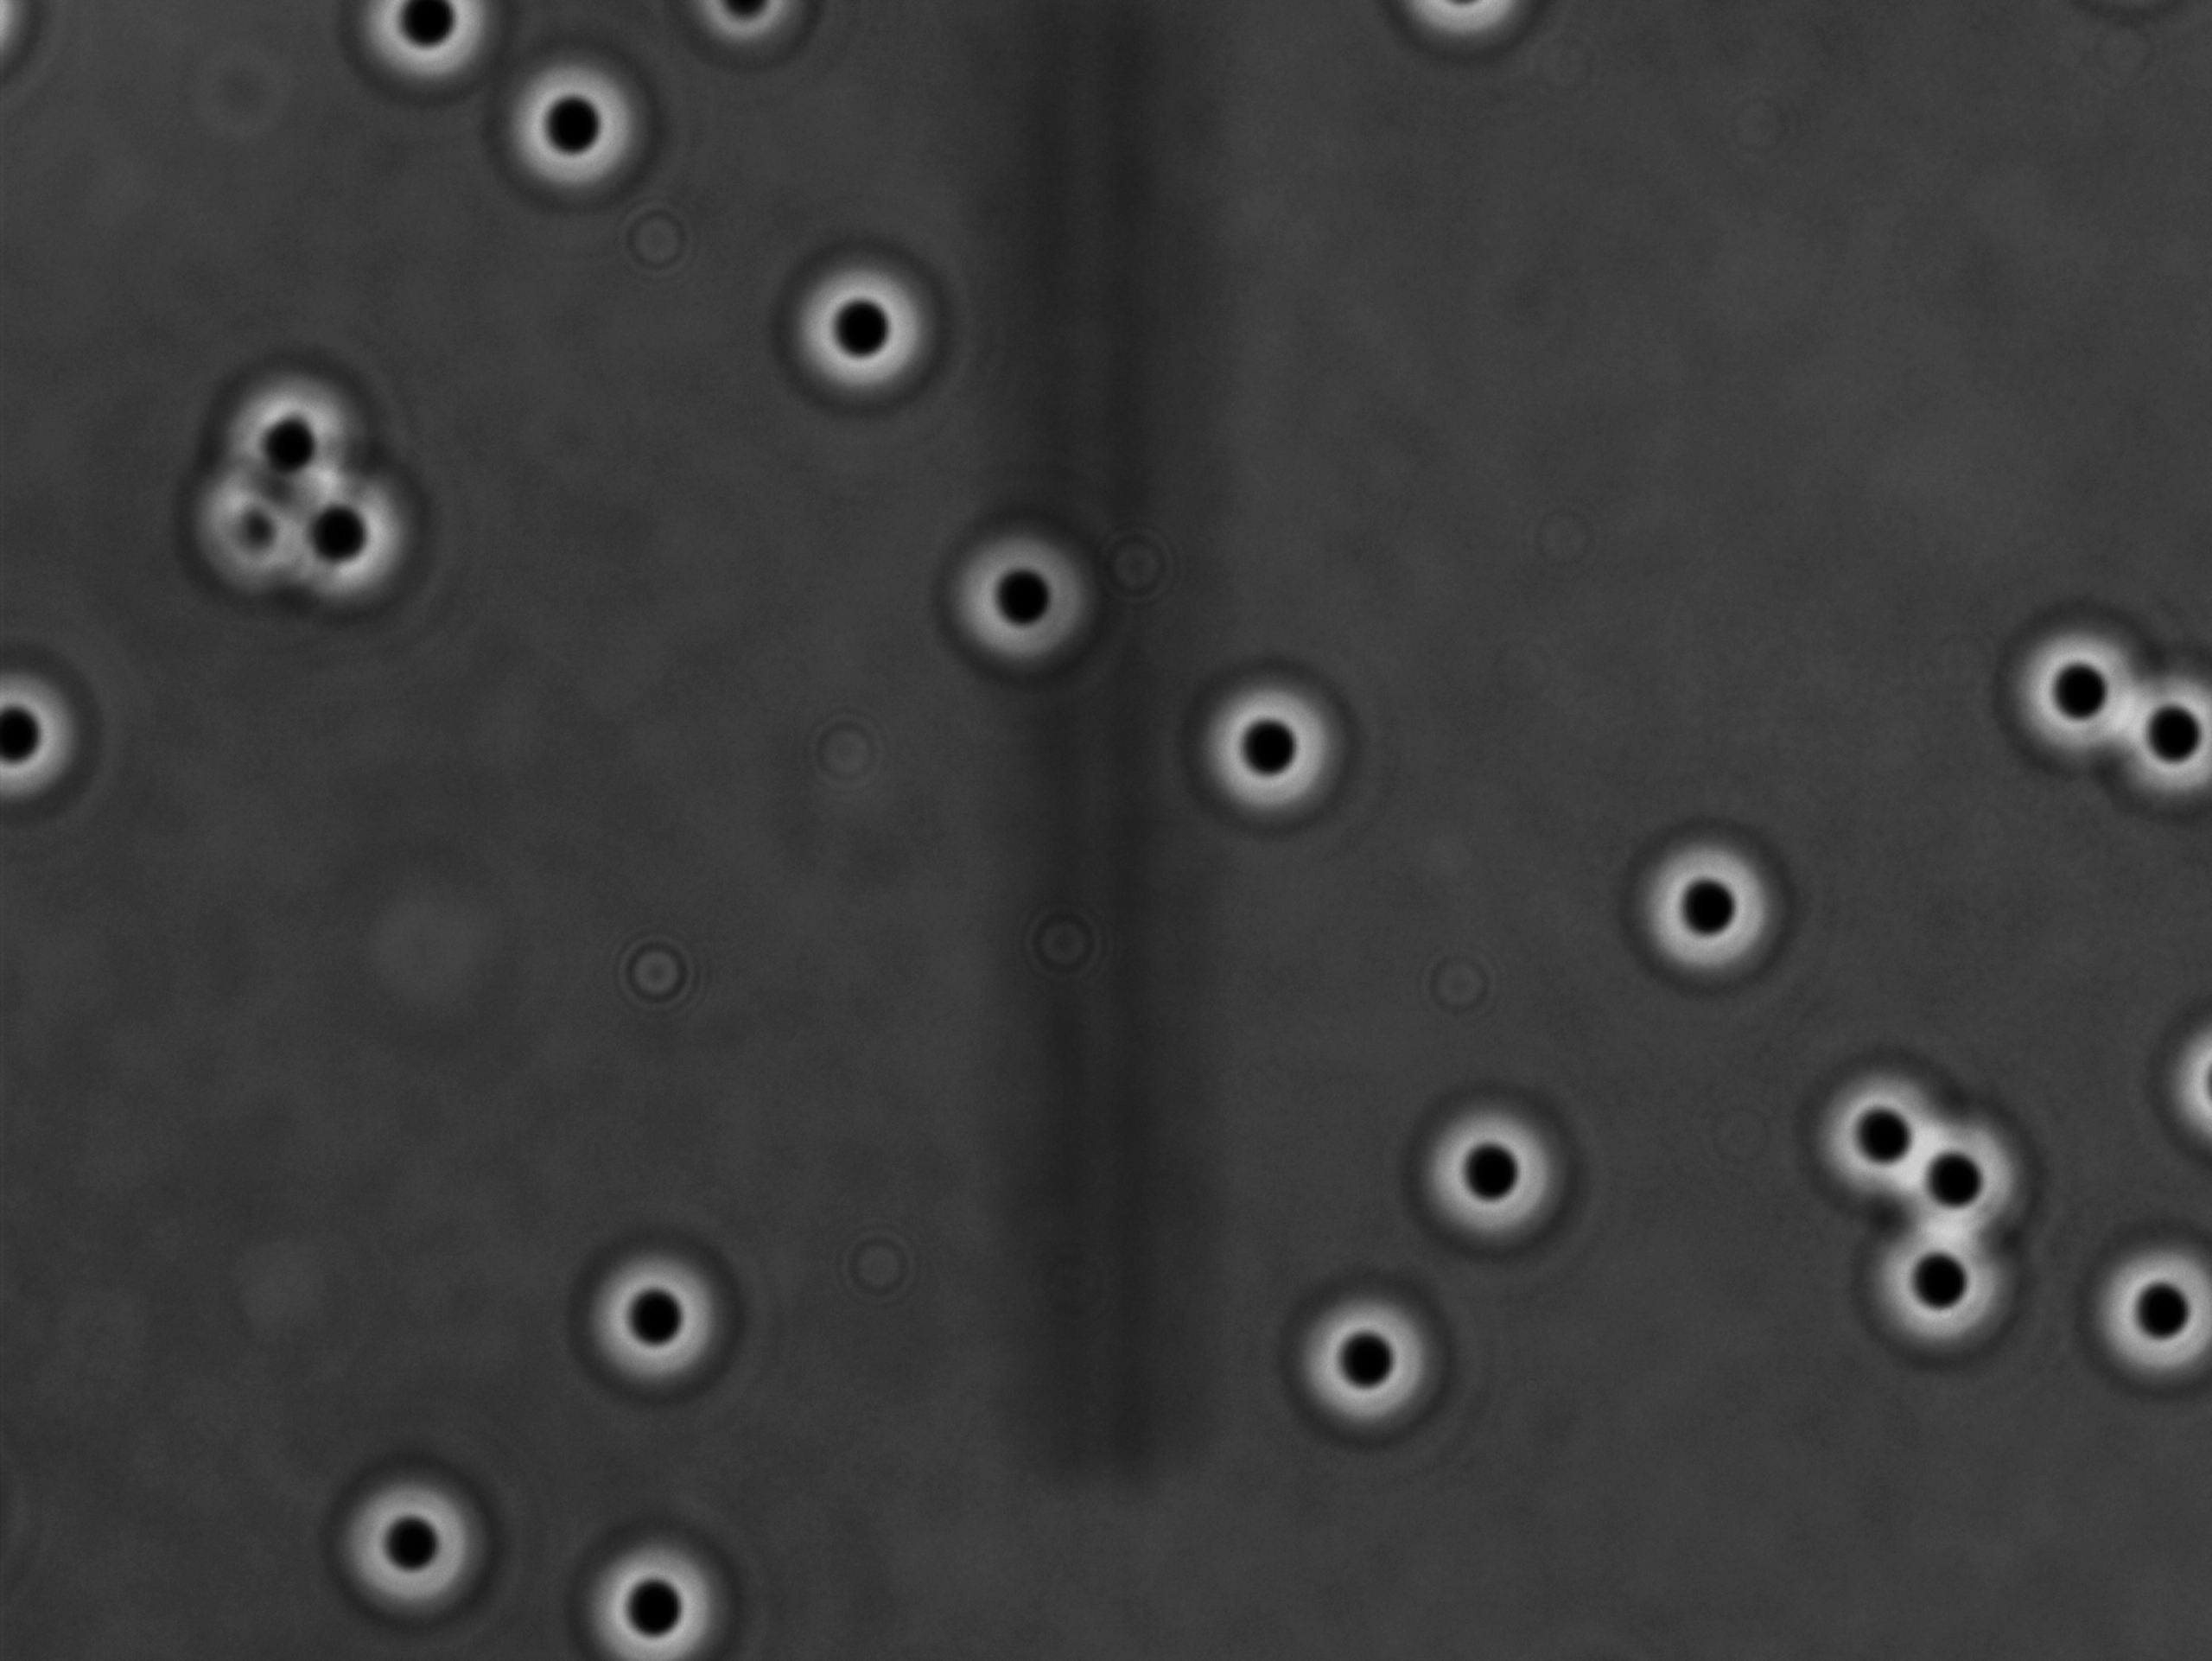depth:-60: (1389, 1068, 1596, 1270), (546, 1202, 759, 1398), (1266, 1249, 1465, 1455), (314, 1443, 515, 1642), (1847, 1199, 2060, 1378), (766, 232, 963, 424), (1614, 810, 1806, 1003), (1790, 1028, 1982, 1220), (1978, 583, 2160, 782), (1162, 663, 1357, 836), (1879, 1101, 2071, 1263), (481, 38, 661, 209), (928, 516, 1103, 682), (553, 1525, 754, 1661), (2074, 1234, 2212, 1399), (2092, 654, 2212, 827)
